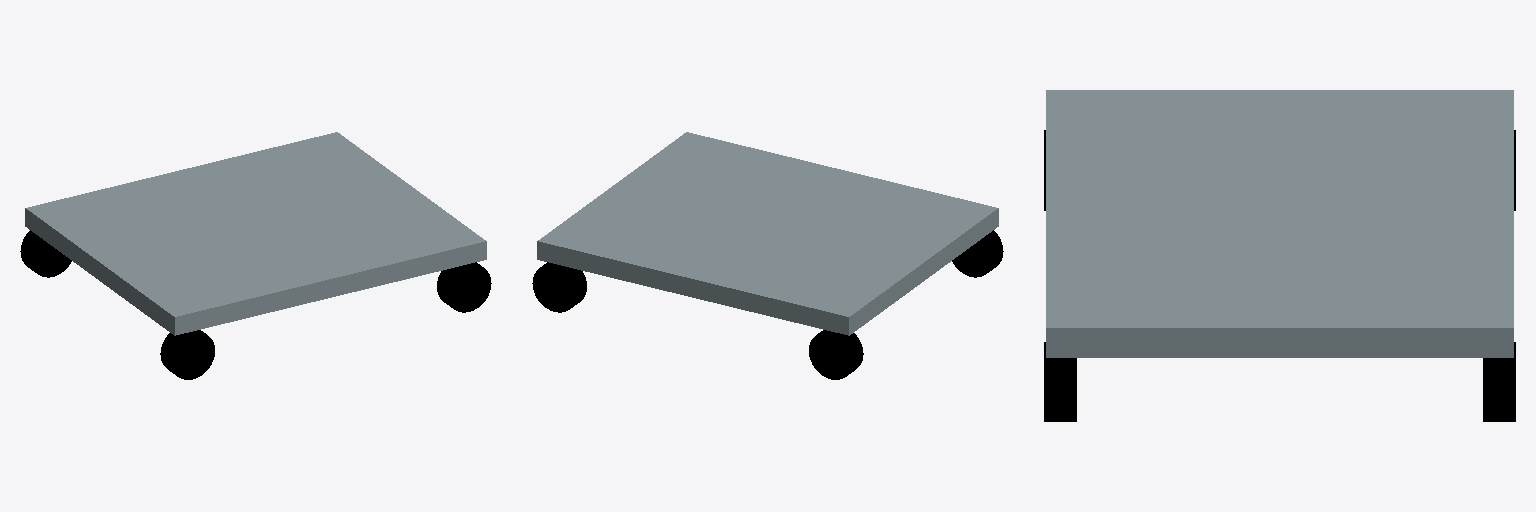
The robot description file, URDF, robot "small_car":
<?xml version="1.0" ?>
<!-- =================================================================================== -->
<!-- |    This document was autogenerated by xacro from ./AGV2.urdf.xarco              | -->
<!-- |    EDITING THIS FILE BY HAND IS NOT RECOMMENDED                                 | -->
<!-- =================================================================================== -->
<robot name="small_car">
  <material name="green">
    <color rgba="0 0.5 0.2 1"/>
  </material>
  <material name="black">
    <color rgba="0 0 0 1"/>
  </material>
  <material name="white">
    <color rgba="1 1 1 1"/>
  </material>
  <material name="grey">
    <color rgba="0.5843137254901961 0.6392156862745098 0.6509803921568628 1"/>
  </material>
  <link name="base_link">
    <visual>
      <geometry>
        <box size="0.35 0.02 0.29"/>
      </geometry>
      <origin rpy="1.5707963267948966 0 0" xyz="0 0 0"/>
      <material name="grey"/>
    </visual>
    <collision>
      <geometry>
        <box size="0.35 0.02 0.29"/>
      </geometry>
      <origin rpy="1.5707963267948966 0 0" xyz="0 0 0"/>
    </collision>
    <inertial>
      <mass value="0.5"/>
      <inertia ixx="0.001" ixy="0.001" ixz="0.001" iyy="0.001" iyz="0.001" izz="0.001"/>
    </inertial>
  </link>
  <link name="right_front_wheel_base">
    <inertial>
      <mass value="0.001"/>
      <inertia ixx="0.001" ixy="0.001" ixz="0.001" iyy="0.001" iyz="0.001" izz="0.001"/>
    </inertial>
  </link>
  <link name="right_front_wheel">
    <visual>
      <origin rpy="1.5707963267948966 0 0" xyz="0 0 0"/>
      <geometry>
        <cylinder length="0.02" radius="0.025"/>
      </geometry>
      <material name="black"/>
    </visual>
    <collision>
      <origin rpy="1.5707963267948966 0 0" xyz="0 0 0"/>
      <geometry>
        <cylinder length="0.02" radius="0.025"/>
      </geometry>
    </collision>
    <inertial>
      <mass value="0.3"/>
      <inertia ixx="0.001" ixy="0.001" ixz="0.001" iyy="0.001" iyz="0.001" izz="0.001"/>
    </inertial>
  </link>
  <joint name="right_front_wheel_base_joint" type="revolute">
    <axis rpy="0 0 0" xyz="0 0 1"/>
    <parent link="base_link"/>
    <child link="right_front_wheel_base"/>
    <!-- 0.35 0.02 0.29 -->
    <!-- 0.155 -0.136 -0.036 -->
    <origin rpy="0 0 0" xyz="0.155 -0.136 -0.036"/>
  </joint>
  <joint name="right_front_wheel_joint" type="continuous">
    <axis rpy="0 0 0" xyz="0 1 0"/>
    <parent link="right_front_wheel_base"/>
    <child link="right_front_wheel"/>
    <origin rpy="0 0 0" xyz="0 0 0"/>
  </joint>
  <!-- <joint name="${prefix}_${suffix}_wheel_joint_revolute" type="revolute">
      <axis rpy="0 0 0" xyz="0 0 1"/>
      <limit effort ="1000.0" lower="-0.55" upper="0.55" velocity="0.5"/>
      <parent link="${prefix}_${suffix}_wheel"/>
      <child link="${prefix}_${suffix}_wheel"/>
      <origin rpy="0 0 0" xyz="${width*reflectx/2} ${width/2*reflecty} -${wheeldiam/2+.05}"/>
    </joint> -->
  <!-- <link name="right_back_wheel_base">
    <inertial>
      <mass value="0.001"/>
      <inertia ixx="0.001" ixy="0.001" ixz="0.001" iyy="0.001" iyz="0.001" izz="0.001"/>
    </inertial>
  </link> -->
  <link name="right_back_wheel">
    <visual>
      <origin rpy="1.5707963267948966 0 0" xyz="0 0 0"/>
      <geometry>
        <cylinder length="0.02" radius="0.025"/>
      </geometry>
      <material name="black"/>
    </visual>
    <collision>
      <origin rpy="1.5707963267948966 0 0" xyz="0 0 0"/>
      <geometry>
        <cylinder length="0.02" radius="0.025"/>
      </geometry>
    </collision>
    <inertial>
      <mass value="0.3"/>
      <inertia ixx="0.001" ixy="0.001" ixz="0.001" iyy="0.001" iyz="0.001" izz="0.001"/>
    </inertial>
  </link>
  <joint name="right_back_wheel_joint" type="continuous">
    <axis rpy="0 0 0" xyz="0 1 0"/>
    <parent link="base_link"/>
    <child link="right_back_wheel"/>
    <origin rpy="0 0 0" xyz="-0.155 -0.136 -0.036"/>
  </joint>
  <!-- <joint name="right_back_wheel_joint" type="continuous">
    <axis rpy="0 0 0" xyz="0 1 0"/>
    <parent link="right_back_wheel_base"/>
    <child link="right_back_wheel"/>
    <origin rpy="0 0 0" xyz="0 0 -0.15000000000000002"/>
  </joint> -->
  <!-- <joint name="${prefix}_${suffix}_wheel_joint_revolute" type="revolute">
      <axis rpy="0 0 0" xyz="0 0 1"/>
      <limit effort ="1000.0" lower="-0.55" upper="0.55" velocity="0.5"/>
      <parent link="${prefix}_${suffix}_wheel"/>
      <child link="${prefix}_${suffix}_wheel"/>
      <origin rpy="0 0 0" xyz="${width*reflectx/2} ${width/2*reflecty} -${wheeldiam/2+.05}"/>
    </joint> -->
  <link name="left_front_wheel_base">
    <inertial>
      <mass value="0.001"/>
      <inertia ixx="0.001" ixy="0.001" ixz="0.001" iyy="0.001" iyz="0.001" izz="0.001"/>
    </inertial>
  </link>
  <link name="left_front_wheel">
    <visual>
      <origin rpy="1.5707963267948966 0 0" xyz="0 0 0"/>
      <geometry>
        <cylinder length="0.02" radius="0.025"/>
      </geometry>
      <material name="black"/>
    </visual>
    <collision>
      <origin rpy="1.5707963267948966 0 0" xyz="0 0 0"/>
      <geometry>
        <cylinder length="0.02" radius="0.025"/>
      </geometry>
    </collision>
    <inertial>
      <mass value="0.3"/>
      <inertia ixx="0.001" ixy="0.001" ixz="0.001" iyy="0.001" iyz="0.001" izz="0.001"/>
    </inertial>
  </link>
  <joint name="left_front_wheel_base_joint" type="revolute">
    <axis rpy="0 0 0" xyz="0 0 1"/>
    <parent link="base_link"/>
    <child link="left_front_wheel_base"/>
    <origin rpy="0 0 0" xyz="0.155 0.136 0"/>
  </joint>
  <joint name="left_front_wheel_joint" type="continuous">
    <axis rpy="0 0 0" xyz="0 1 0"/>
    <parent link="left_front_wheel_base"/>
    <child link="left_front_wheel"/>
    <origin rpy="0 0 0" xyz="0 0 -0.036"/>
  </joint>
  <!-- <joint name="${prefix}_${suffix}_wheel_joint_revolute" type="revolute">
      <axis rpy="0 0 0" xyz="0 0 1"/>
      <limit effort ="1000.0" lower="-0.55" upper="0.55" velocity="0.5"/>
      <parent link="${prefix}_${suffix}_wheel"/>
      <child link="${prefix}_${suffix}_wheel"/>
      <origin rpy="0 0 0" xyz="${width*reflectx/2} ${width/2*reflecty} -${wheeldiam/2+.05}"/>
    </joint> -->
  <!-- <link name="left_back_wheel_base">
    <inertial>
      <mass value="0.001"/>
      <inertia ixx="0.001" ixy="0.001" ixz="0.001" iyy="0.001" iyz="0.001" izz="0.001"/>
    </inertial>
  </link> -->
  <link name="left_back_wheel">
    <visual>
      <origin rpy="1.5707963267948966 0 0" xyz="0 0 0"/>
      <geometry>
        <cylinder length="0.02" radius="0.025"/>
      </geometry>
      <material name="black"/>
    </visual>
    <collision>
      <origin rpy="1.5707963267948966 0 0" xyz="0 0 0"/>
      <geometry>
        <cylinder length="0.02" radius="0.025"/>
      </geometry>
    </collision>
    <inertial>
      <mass value="0.3"/>
      <inertia ixx="0.001" ixy="0.001" ixz="0.001" iyy="0.001" iyz="0.001" izz="0.001"/>
    </inertial>
  </link>
  <joint name="left_back_wheel_joint" type="continuous">
    <axis rpy="0 0 0" xyz="0 1 0"/>
    <parent link="base_link"/>
    <child link="left_back_wheel"/>
    <origin rpy="0 0 0" xyz="-0.155 0.136 -0.036"/>
  </joint>
  <!-- <joint name="left_back_wheel_joint" type="continuous">
    <axis rpy="0 0 0" xyz="0 1 0"/>
    <parent link="left_back_wheel_base"/>
    <child link="left_back_wheel"/>
    <origin rpy="0 0 0" xyz="0 0 -0.15000000000000002"/>
  </joint> -->
  <!-- <joint name="${prefix}_${suffix}_wheel_joint_revolute" type="revolute">
      <axis rpy="0 0 0" xyz="0 0 1"/>
      <limit effort ="1000.0" lower="-0.55" upper="0.55" velocity="0.5"/>
      <parent link="${prefix}_${suffix}_wheel"/>
      <child link="${prefix}_${suffix}_wheel"/>
      <origin rpy="0 0 0" xyz="${width*reflectx/2} ${width/2*reflecty} -${wheeldiam/2+.05}"/>
    </joint> -->
</robot>

--- Render facts (derived) ---
3 views of the same robot in one strip: view 1: azimuth 30°, elevation 25°; view 2: azimuth 150°, elevation 25°; view 3: azimuth 270°, elevation 25° (orthographic).
Robot: small_car — 7 links, 6 joints (2 revolute, 4 continuous); root link base_link; default pose: all joints at 0.
Visible links, largest first — view 1: base_link, right_back_wheel, right_front_wheel, left_back_wheel; view 2: base_link, left_back_wheel, left_front_wheel, right_back_wheel; view 3: base_link, right_front_wheel, left_front_wheel.
Boxes of the visible links, x1,y1,x2,y2 form: base_link: [25, 132, 486, 335]; right_back_wheel: [160, 330, 214, 379]; right_front_wheel: [437, 262, 491, 312]; left_back_wheel: [20, 230, 71, 277]; base_link: [537, 132, 998, 335]; left_back_wheel: [809, 330, 863, 379]; left_front_wheel: [532, 262, 586, 312]; right_back_wheel: [952, 230, 1003, 277]; base_link: [1046, 90, 1513, 357]; right_front_wheel: [1044, 342, 1076, 421]; left_front_wheel: [1483, 342, 1515, 421].
Bounding box of the posed robot: 0.36 × 0.292 × 0.071 m (x, y, z).
Geometry: primitives only (box / cylinder / sphere), no mesh files.
